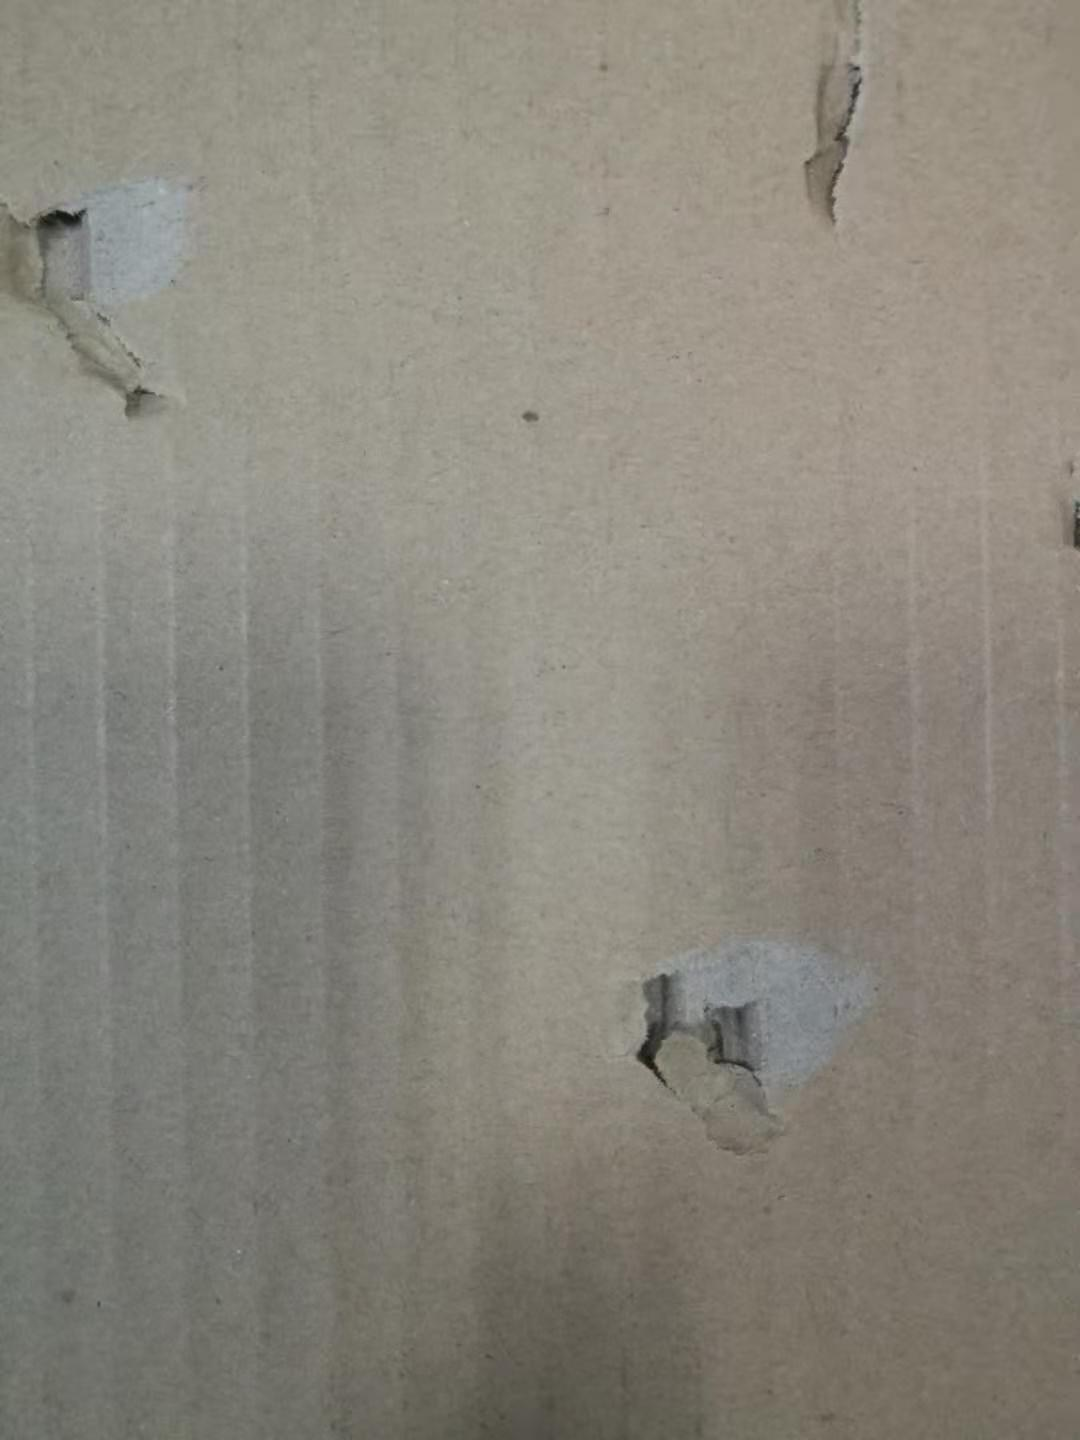defect: (592, 905, 931, 1202), (1, 139, 246, 458), (774, 2, 909, 259), (1031, 439, 1080, 581)
